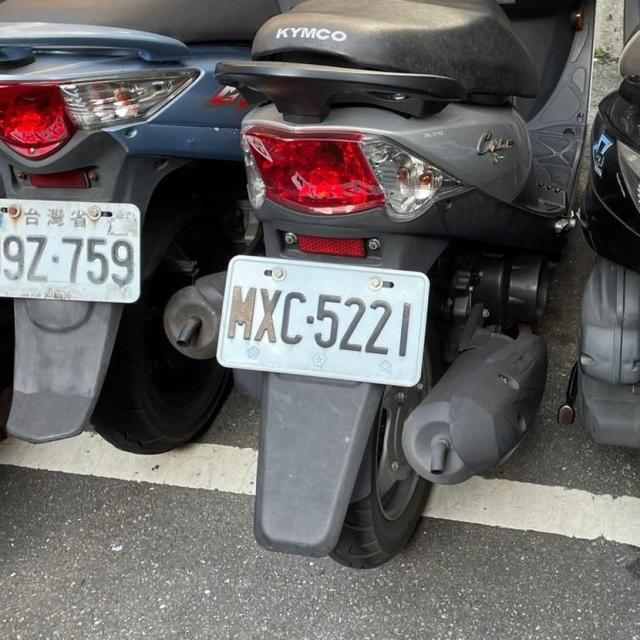W: (212, 244, 434, 394), (0, 187, 153, 309)
